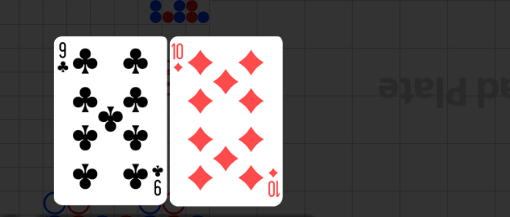10D: (267, 166, 280, 198)
9C: (57, 41, 71, 75)
